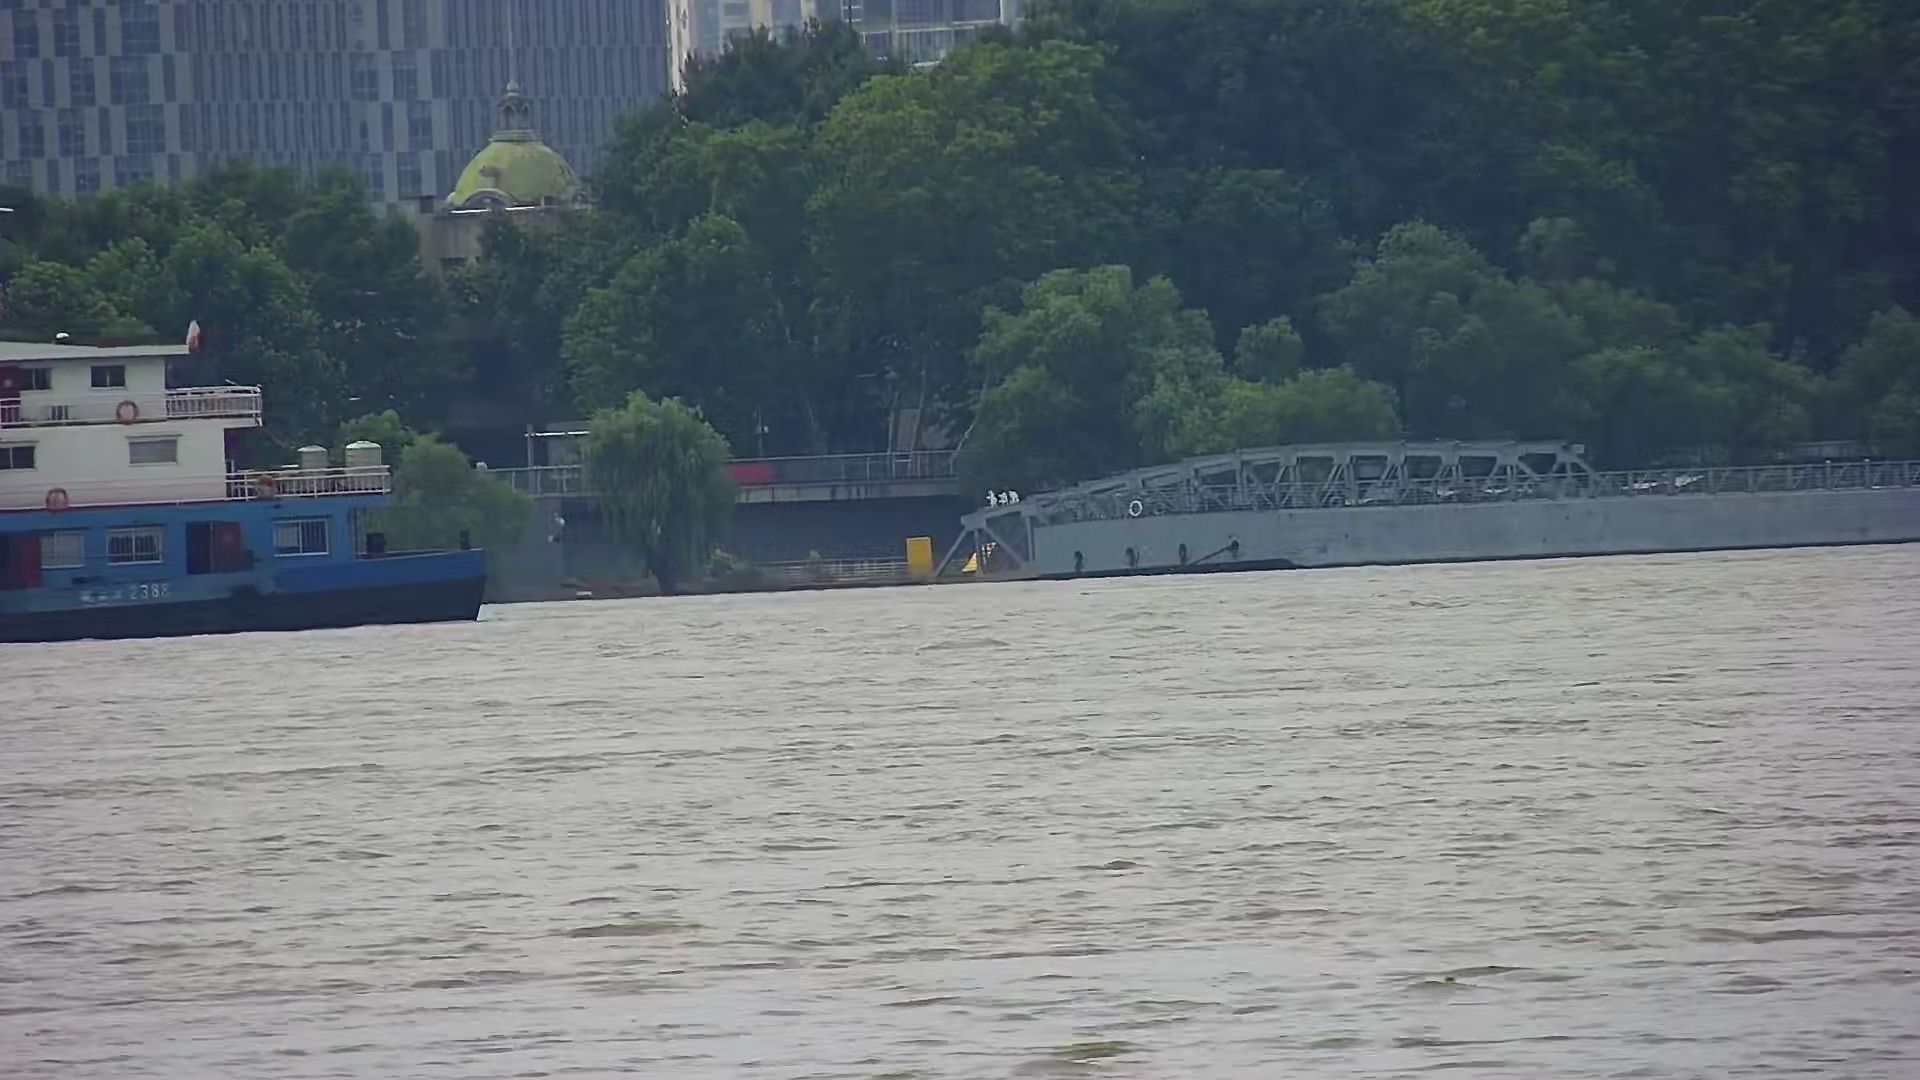ship: (1, 313, 491, 644)
